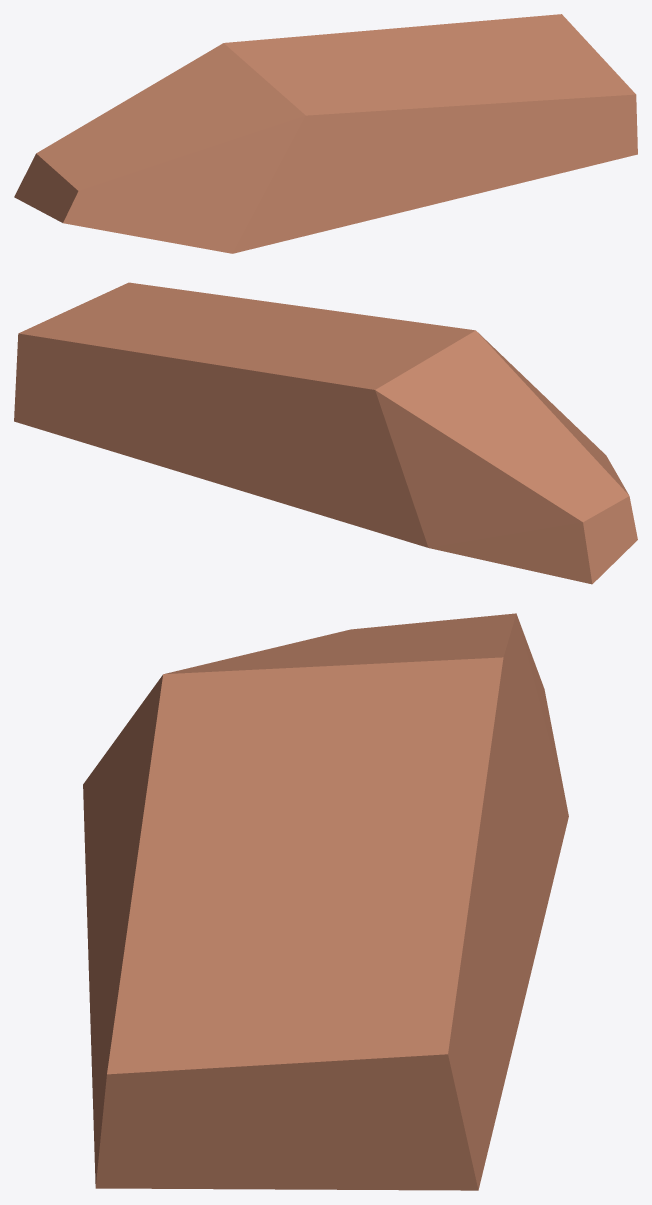
The model's file is chickenBreast.fbx.
3 renders of one model, top to bottom at view 1: azimuth 30°, elevation 25°; view 2: azimuth 150°, elevation 25°; view 3: azimuth 270°, elevation 25°, orthographic. The views are drawn at different scales.
Parts seen in each view (by area): view 1: chickenBreast; view 2: chickenBreast; view 3: chickenBreast.
Boxes of the visible parts, left/top/right/bottom form: chickenBreast: left=14, top=14, right=637, bottom=253; chickenBreast: left=14, top=282, right=637, bottom=584; chickenBreast: left=83, top=613, right=568, bottom=1190.
Size of the model in its own units: 23.18 by 4.78 by 9.31.
Materials: 1 (1 with a texture image).
